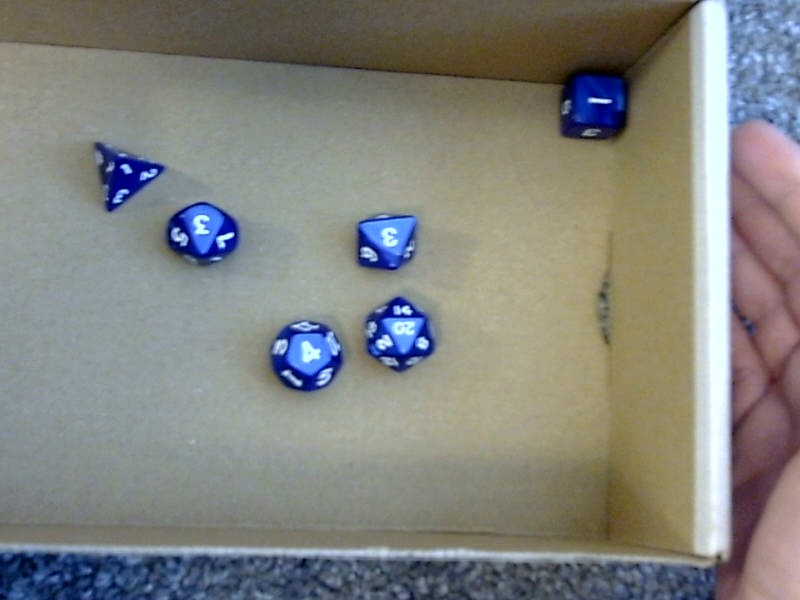d10 3: (165, 197, 242, 268)
d12 4: (265, 313, 346, 392)
d20 20: (362, 295, 438, 374)
d4 1: (90, 136, 165, 211)
d6 1: (557, 71, 629, 142)
d8 3: (353, 209, 418, 271)
